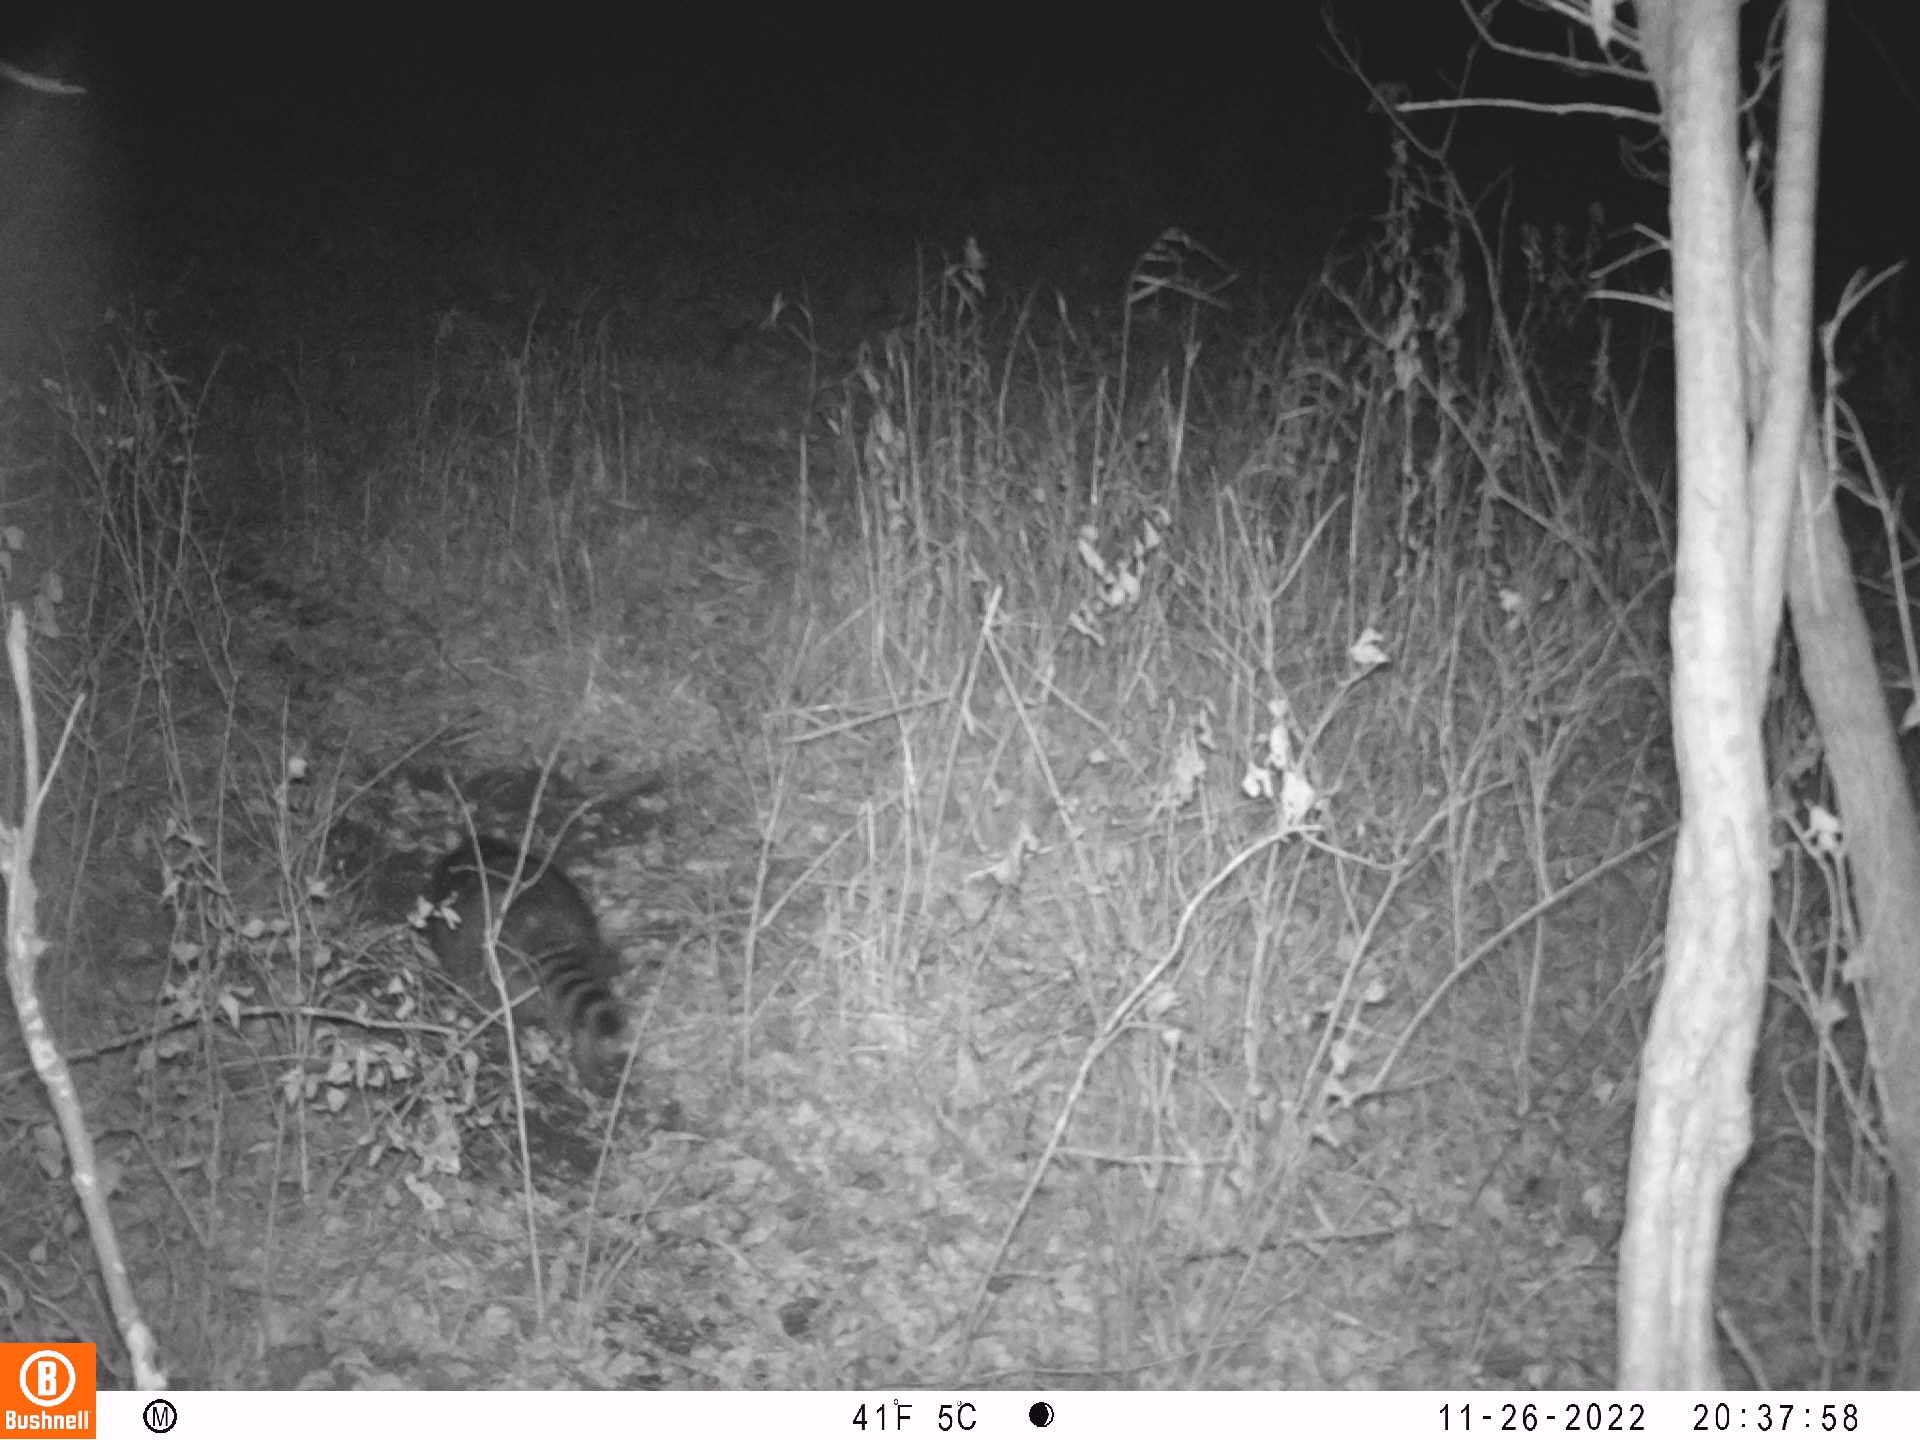Raccoon: (419, 838, 630, 1078)
